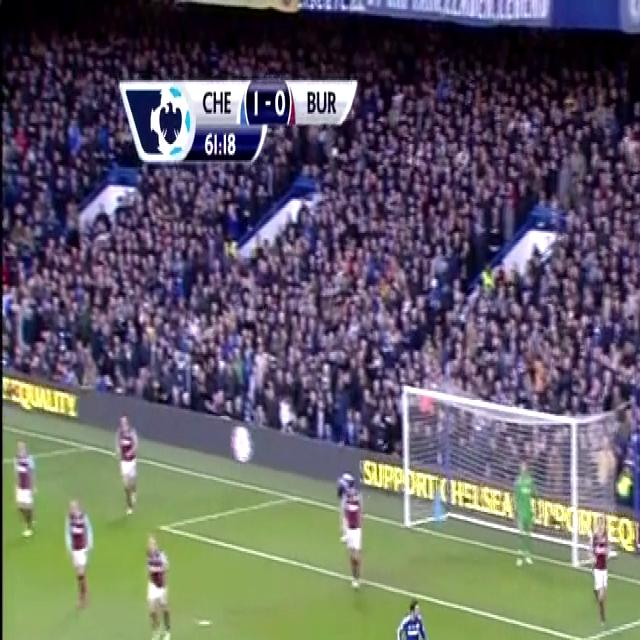goalkeeper: (513, 454, 543, 579)
soccer-player: (63, 487, 98, 618), (139, 522, 177, 640), (336, 471, 369, 599), (8, 425, 41, 547), (585, 510, 616, 634), (116, 406, 145, 524), (391, 590, 437, 640)
